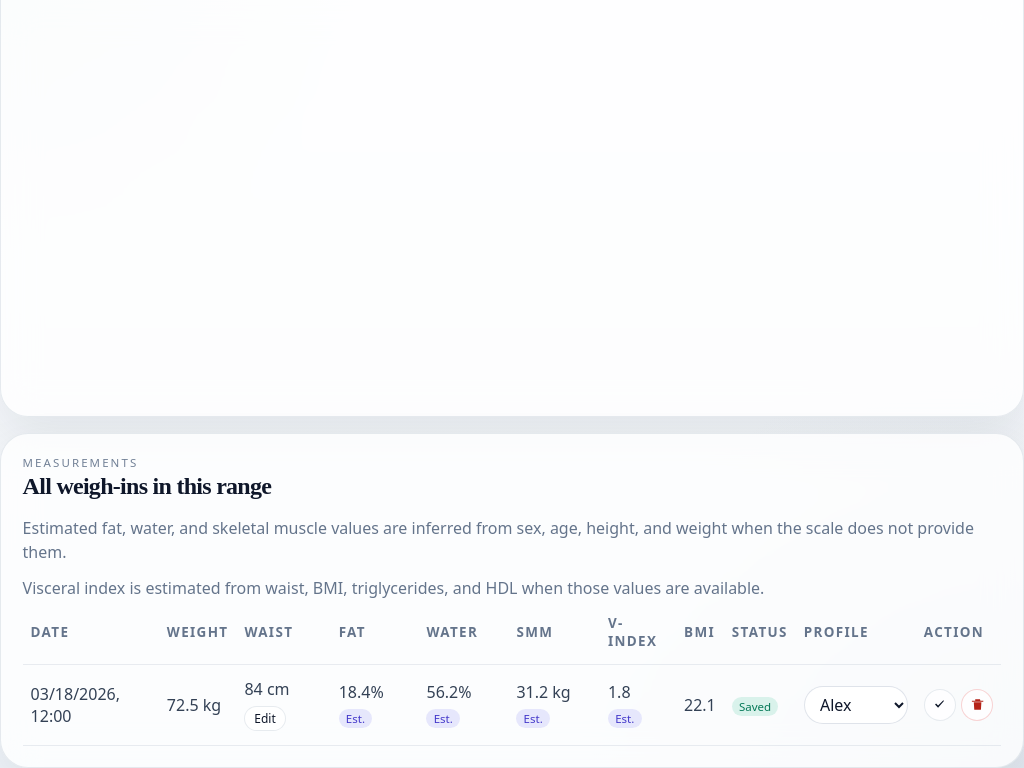
Test: TrendsPanel › shows a compact lab editor per row
(page scrolled)
Click the button "Edit": (265, 718) [244,706,286,731]
(page scrolled)
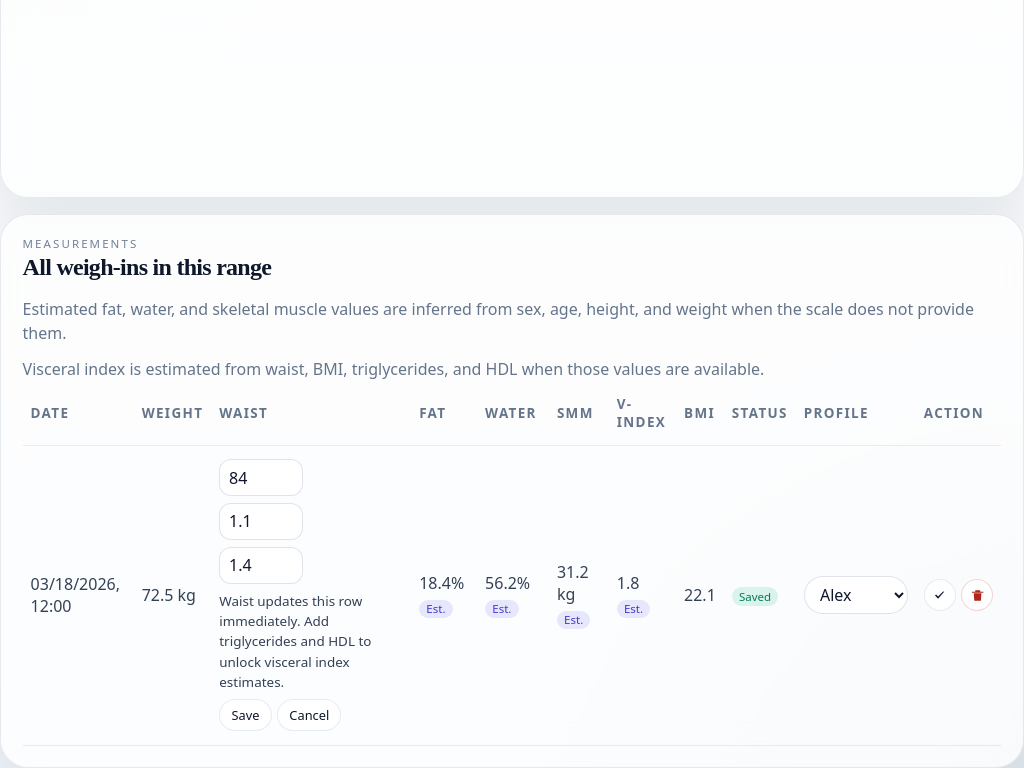
Expected: the number field named "Waist for measurement 1" holds "84", [219,459,303,496]
Expected: the number field named "Triglycerides for measurement 1" holds "1.1", [219,503,303,540]
Expected: the number field named "HDL for measurement 1" holds "1.4", [219,547,303,584]
